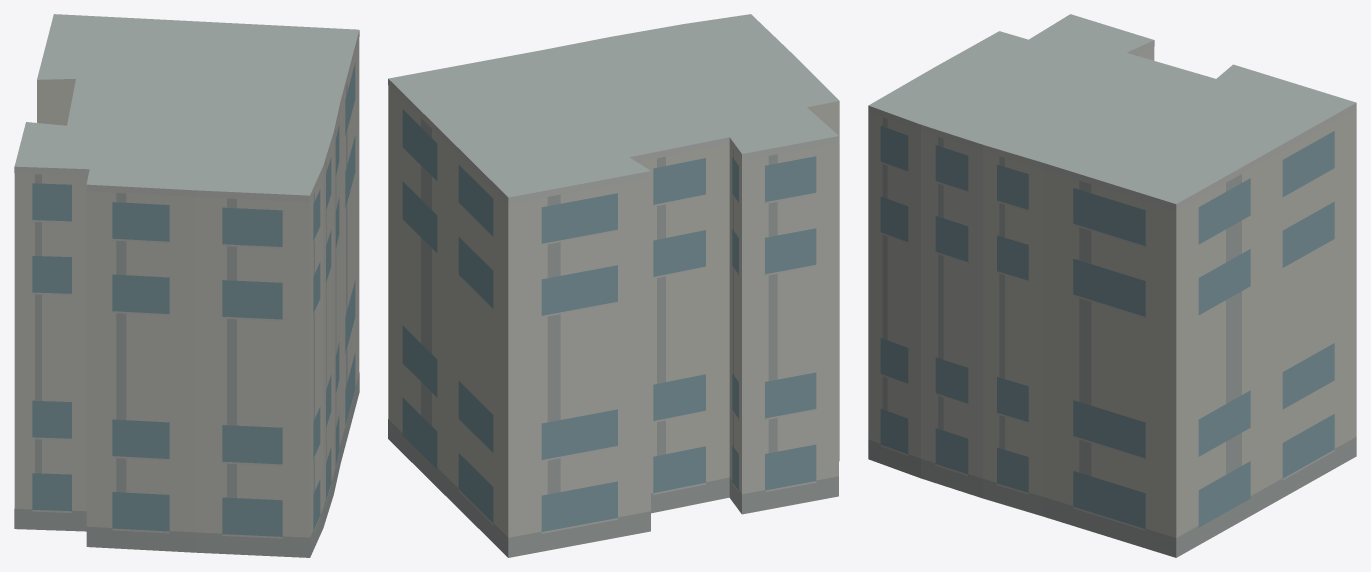
The model's file is survey-upis-32644011.glb.
The picture shows the model from 3 angles, left to right: view 1: azimuth 30°, elevation 25°; view 2: azimuth 150°, elevation 25°; view 3: azimuth 270°, elevation 25°; orthographic projection. The views are drawn at different scales.
Visible parts, largest first — view 1: survey-upis-32644011.tmp; view 2: survey-upis-32644011.tmp; view 3: survey-upis-32644011.tmp.
Boxes of the visible parts, x1=… form: survey-upis-32644011.tmp: x1=14, y1=14, x2=359, y2=557; survey-upis-32644011.tmp: x1=388, y1=14, x2=839, y2=557; survey-upis-32644011.tmp: x1=868, y1=14, x2=1356, y2=557.
Size of the model in its own units: 15.11 by 13.1 by 16.4.
